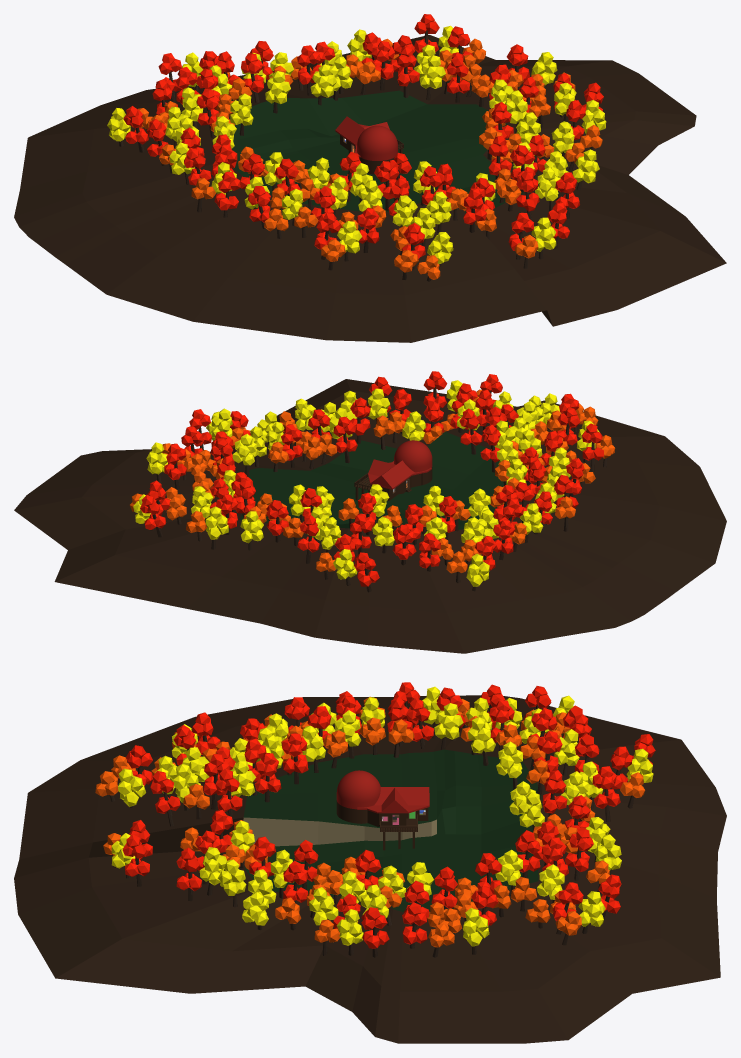
File: world_join_the_trees.glb
3 renders of one model, top to bottom at view 1: azimuth 30°, elevation 25°; view 2: azimuth 150°, elevation 25°; view 3: azimuth 270°, elevation 25°, orthographic. The views are drawn at different scales.
Visible parts, largest first — view 1: Plane.008, Cube.181, Sphere.001; view 2: Plane.008, Cube.181, Sphere.001, Cube.038, Plane.007; view 3: Plane.008, Cube.181, Sphere.001, Plane.007, Cube.038.
Part boxes in pixels (x1=…): Plane.008: x1=14, y1=35, x2=726, y2=342; Cube.181: x1=107, y1=14, x2=606, y2=281; Sphere.001: x1=357, y1=125, x2=397, y2=160; Plane.008: x1=14, y1=379, x2=726, y2=653; Cube.181: x1=129, y1=371, x2=615, y2=592; Sphere.001: x1=394, y1=440, x2=432, y2=472; Cube.038: x1=371, y1=460, x2=414, y2=488; Plane.007: x1=370, y1=467, x2=432, y2=500; Plane.008: x1=14, y1=695, x2=726, y2=1043; Cube.181: x1=95, y1=682, x2=655, y2=957; Sphere.001: x1=336, y1=770, x2=380, y2=809; Plane.007: x1=336, y1=800, x2=428, y2=826; Cube.038: x1=374, y1=787, x2=429, y2=805.
Size of the model in its own units: 413 by 67.5 by 367.
3 materials, 3 textured.
